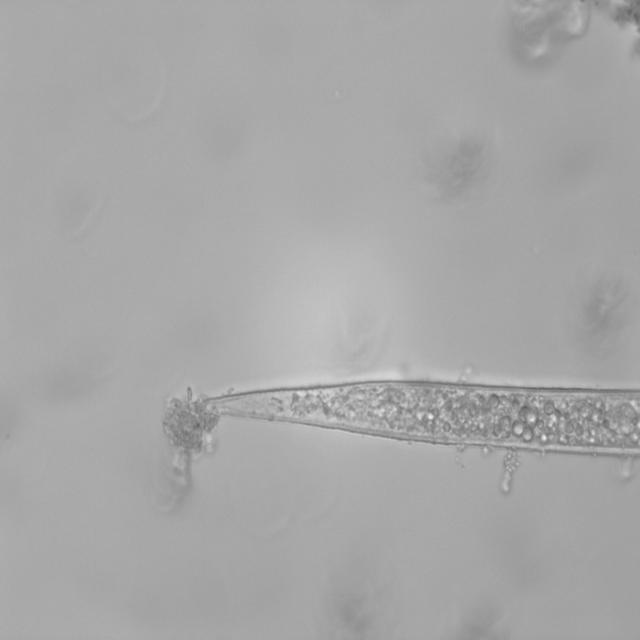Meloidogyne: (186, 355, 640, 506)
